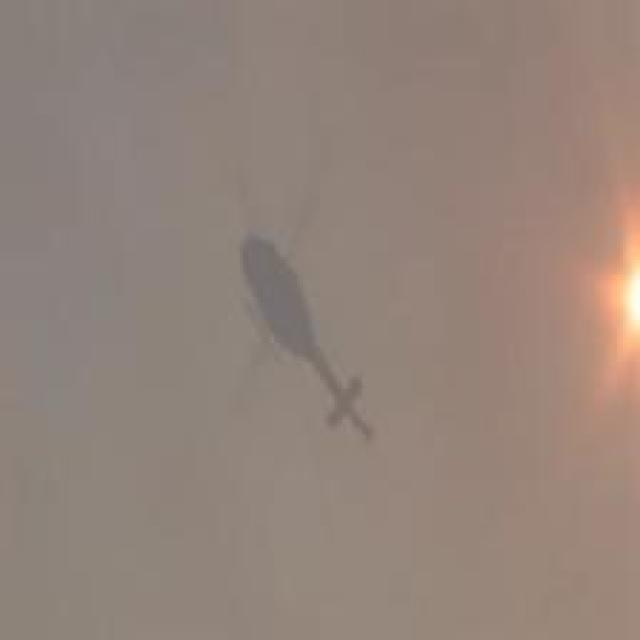other: (565, 187, 634, 400)
